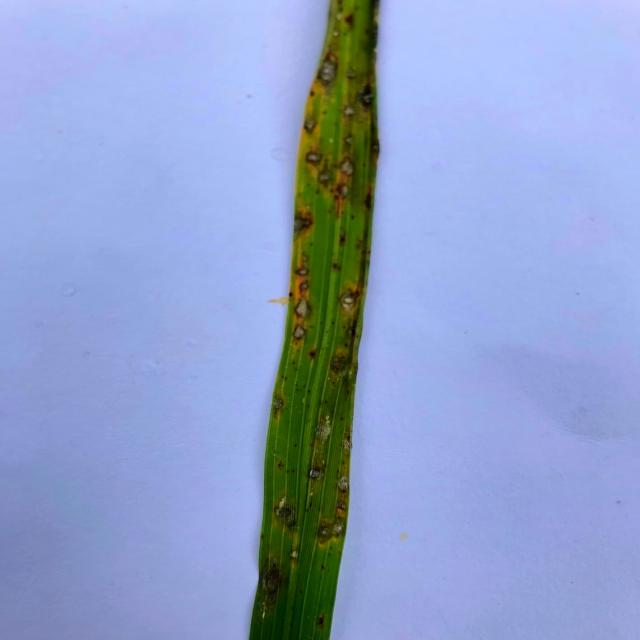leaf blast: (256, 559, 283, 616), (319, 344, 356, 385), (274, 490, 302, 540), (338, 283, 366, 327), (314, 51, 344, 92), (292, 200, 320, 242), (314, 402, 336, 449), (291, 294, 317, 326), (267, 391, 292, 423), (355, 81, 378, 114), (302, 455, 326, 486), (334, 153, 363, 177), (313, 522, 337, 550), (288, 321, 310, 350), (338, 102, 361, 125), (302, 144, 328, 164), (290, 542, 307, 568), (293, 263, 315, 282), (301, 113, 319, 136), (327, 513, 344, 537), (293, 280, 318, 296), (335, 470, 349, 495), (317, 167, 334, 187), (342, 431, 353, 457)
